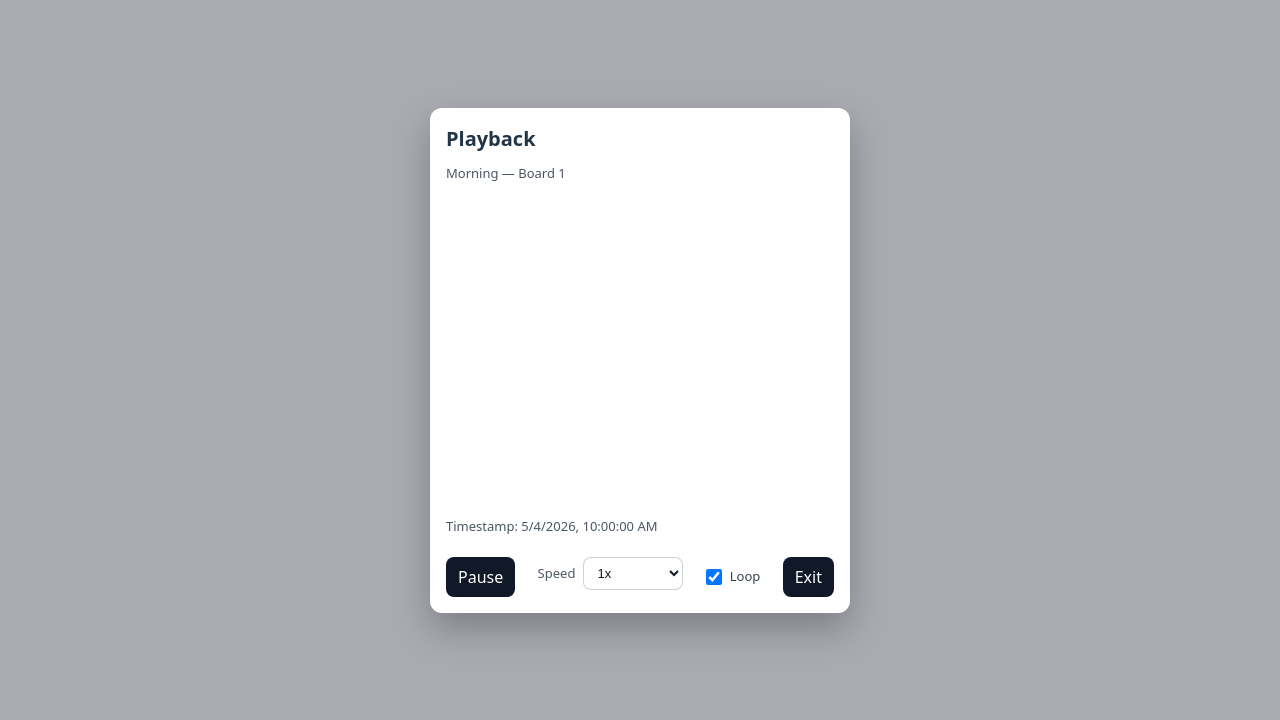
Scenario: LogPlaybackPanel › loads records and shows timestamp + toggles play/pause
expect the text "Timestamp: 5/4/2026, 10:00:00 AM" is shown: met, box [446, 517, 658, 535]
Click the button "Pause" at (481, 576), box [446, 556, 515, 596]
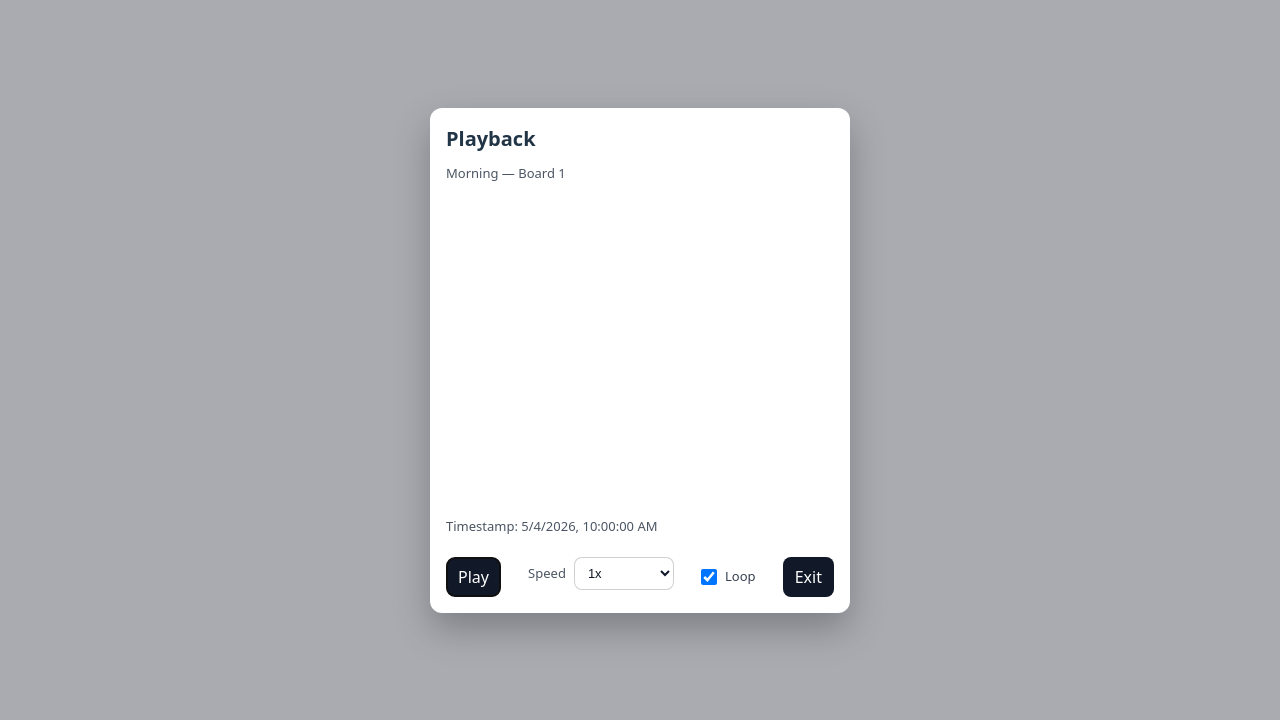
expect the dropdown labelled "Speed" is shown: met, box [574, 556, 674, 590]
expect the button "Play" is shown: met, box [446, 556, 501, 596]
